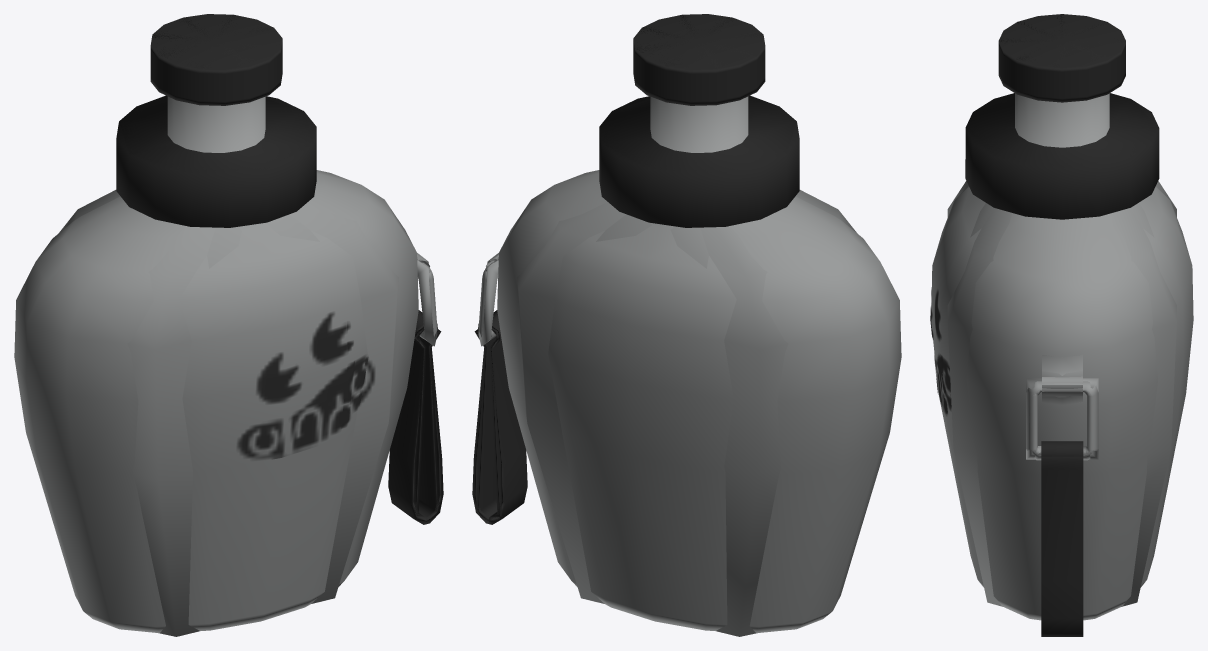
File: pi_waterbottle05_01.gltf
3 views of the same model, side by side, from view 1: azimuth 30°, elevation 25°; view 2: azimuth 150°, elevation 25°; view 3: azimuth 270°, elevation 25° (orthographic). The views are drawn at different scales.
Visible parts, largest first — view 1: um_pi_waterbottle05_01_model_lod0Shape:pi_waterbottle05_main, um_pi_waterbottle05_01_model_lod2Shape:pi_waterbottle05_main, um_pi_waterbottle05_01_model_lod1Shape:pi_waterbottle05_main, um_pi_waterbottle05_01_model_lod0Shape:pi_waterbottle05_alph; view 2: um_pi_waterbottle05_01_model_lod0Shape:pi_waterbottle05_main, um_pi_waterbottle05_01_model_lod2Shape:pi_waterbottle05_main, um_pi_waterbottle05_01_model_lod1Shape:pi_waterbottle05_main; view 3: um_pi_waterbottle05_01_model_lod0Shape:pi_waterbottle05_main, um_pi_waterbottle05_01_model_lod2Shape:pi_waterbottle05_main, um_pi_waterbottle05_01_model_lod1Shape:pi_waterbottle05_main, um_pi_waterbottle05_01_model_lod0Shape:pi_waterbottle05_alph.
Boxes of the visible parts, x1,y1,x2,y2 form: um_pi_waterbottle05_01_model_lod0Shape:pi_waterbottle05_main: [14, 14, 443, 632]; um_pi_waterbottle05_01_model_lod2Shape:pi_waterbottle05_main: [58, 117, 441, 636]; um_pi_waterbottle05_01_model_lod1Shape:pi_waterbottle05_main: [119, 15, 439, 523]; um_pi_waterbottle05_01_model_lod0Shape:pi_waterbottle05_alph: [237, 312, 368, 459]; um_pi_waterbottle05_01_model_lod0Shape:pi_waterbottle05_main: [472, 14, 901, 632]; um_pi_waterbottle05_01_model_lod2Shape:pi_waterbottle05_main: [474, 111, 857, 636]; um_pi_waterbottle05_01_model_lod1Shape:pi_waterbottle05_main: [476, 14, 796, 523]; um_pi_waterbottle05_01_model_lod0Shape:pi_waterbottle05_main: [931, 14, 1193, 636]; um_pi_waterbottle05_01_model_lod2Shape:pi_waterbottle05_main: [947, 127, 1176, 606]; um_pi_waterbottle05_01_model_lod1Shape:pi_waterbottle05_main: [966, 14, 1157, 456]; um_pi_waterbottle05_01_model_lod0Shape:pi_waterbottle05_alph: [930, 290, 951, 414].
Size of the model in its own units: 0.2433 by 0.3128 by 0.1423.
Materials: 2 (2 with a texture image).
